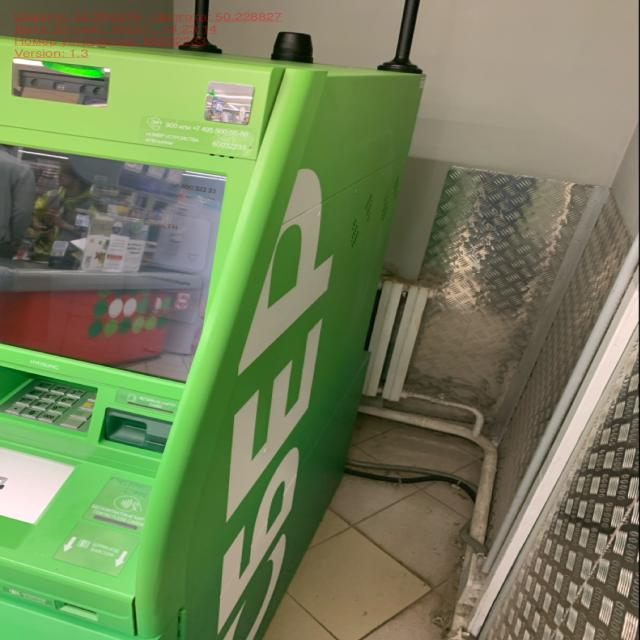bank: (0, 25, 419, 640)
